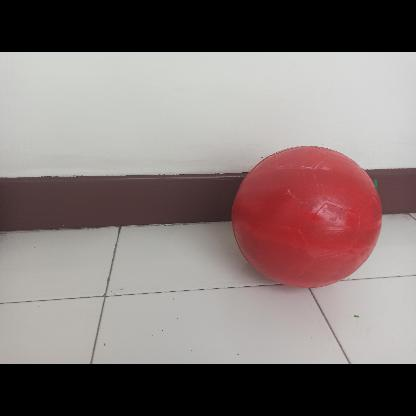red_ball: (234, 141, 382, 289)
